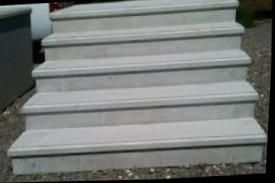Bench: (1, 0, 273, 173)
